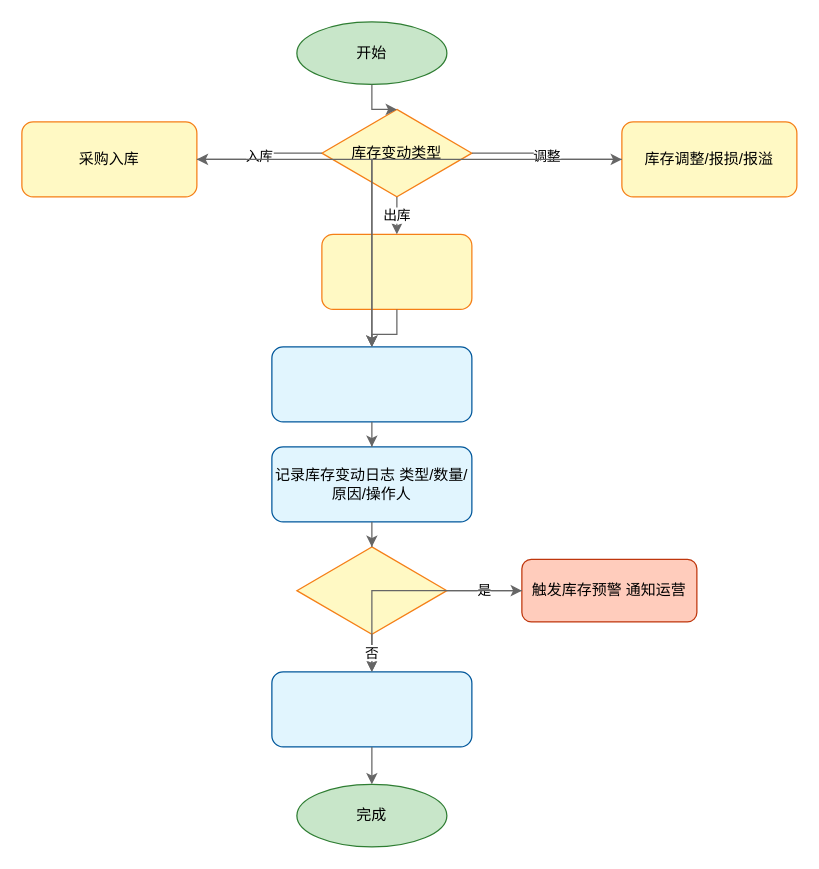
This 819x869 diagram has some shape labels left out. The box of each missing label's shape, as (x1, y1, x2, y2) in pixels:
库存低于预警值？: (296, 546, 447, 634)
库存盘点/效期管理: (271, 671, 472, 747)
拣货出库: (321, 233, 472, 309)
更新实时库存 总库存/锁定/可用: (271, 346, 472, 422)
